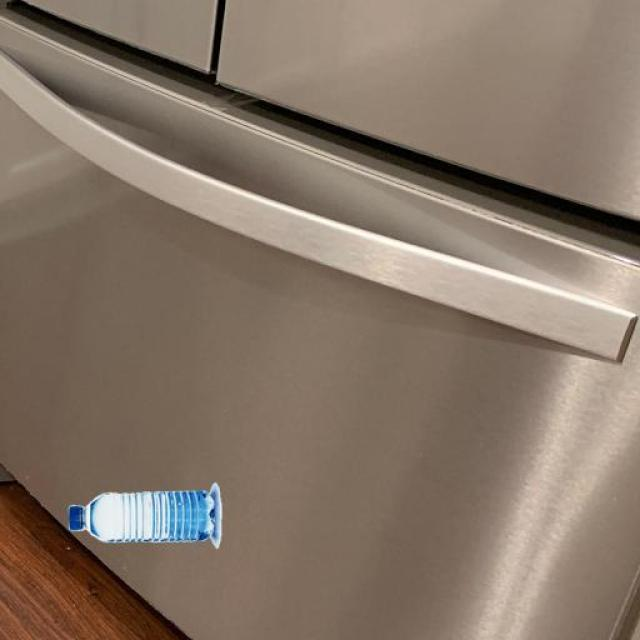bottle: (45, 481, 245, 559)
